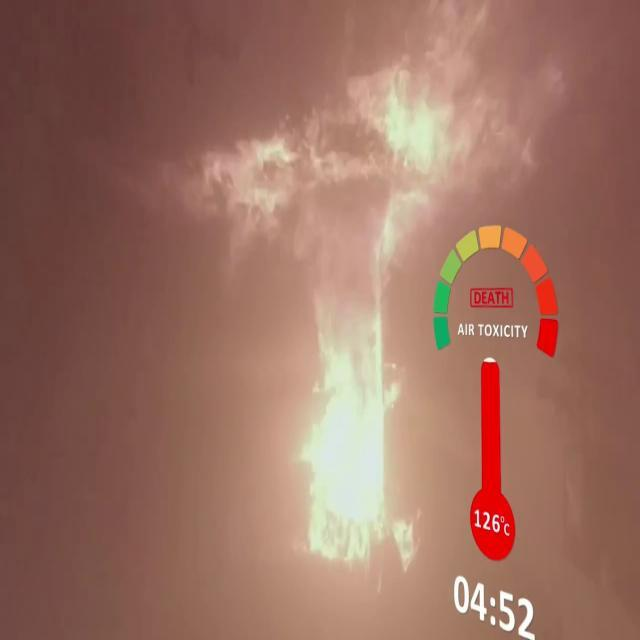Fire: (300, 302, 400, 566), (486, 86, 560, 196), (386, 76, 454, 173), (239, 117, 298, 210), (481, 348, 502, 554)
Smoke: (10, 26, 186, 640), (169, 264, 286, 624), (23, 0, 231, 126)
